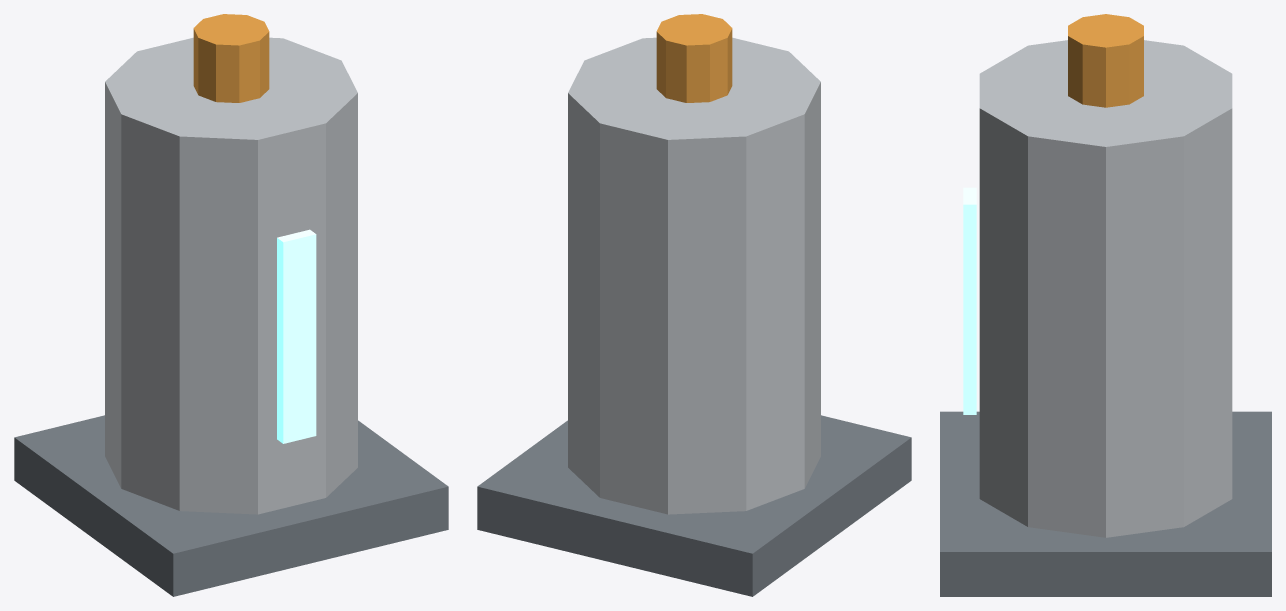
Rendered from mech-hangar-and-battle-frames-coolant-tank-6a3ad8e0__26961.glb.
3 renders of one model, left to right at view 1: azimuth 30°, elevation 25°; view 2: azimuth 150°, elevation 25°; view 3: azimuth 270°, elevation 25°, orthographic. The views are drawn at different scales.
Visible parts, largest first — view 1: coolant-tank; view 2: coolant-tank; view 3: coolant-tank.
Boxes of the visible parts, x1,y1,x2,y2 form: coolant-tank: [14, 14, 448, 596]; coolant-tank: [477, 14, 911, 596]; coolant-tank: [940, 14, 1271, 596].
Bounding box in the file's own units: 1 × 1.65 × 1.
